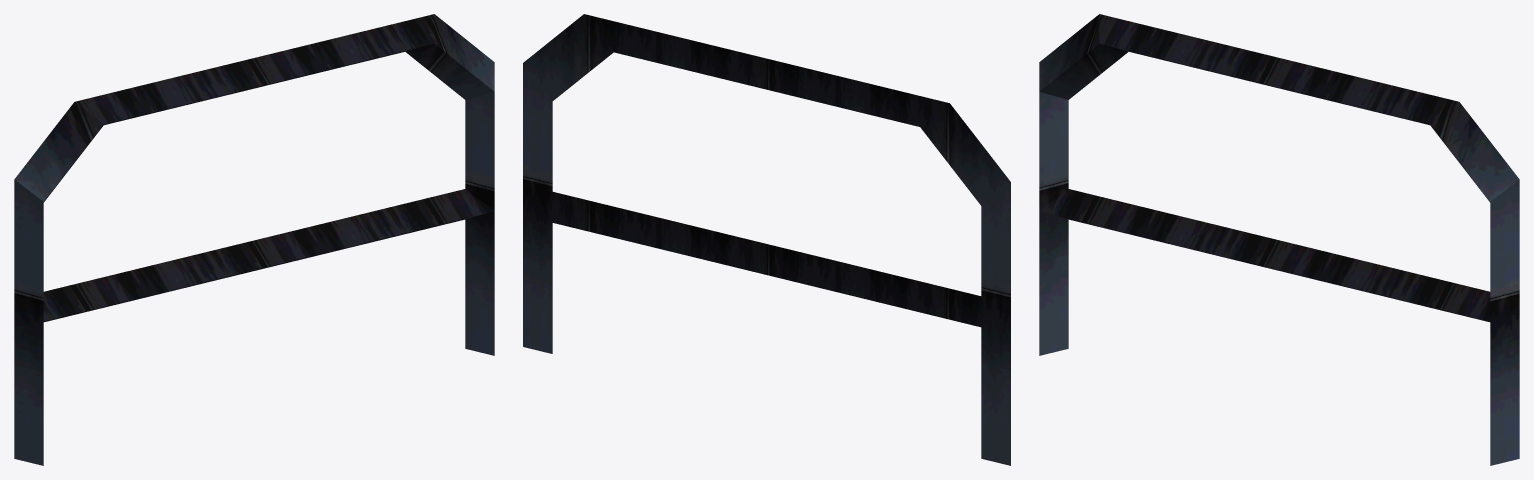
The model's file is barrierStraight.fbx.
The picture shows the model from 3 angles, left to right: view 1: azimuth 30°, elevation 25°; view 2: azimuth 150°, elevation 25°; view 3: azimuth 330°, elevation 25°; orthographic projection.
Visible parts, largest first — view 1: barrierStraight; view 2: barrierStraight; view 3: barrierStraight.
Part boxes in pixels (x1,y1,x2,y2): barrierStraight: (14,14,494,465); barrierStraight: (523,14,1010,465); barrierStraight: (1039,14,1519,465).
Bounding box in the file's own units: 1.86 × 1.26 × 0.098.
